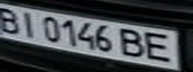0: (36, 14, 63, 43)
1: (57, 17, 78, 47)
4: (75, 20, 96, 51)
6: (93, 24, 118, 54)
B: (115, 26, 151, 60), (0, 3, 24, 35)
E: (142, 29, 181, 63)
I: (15, 8, 42, 38)
